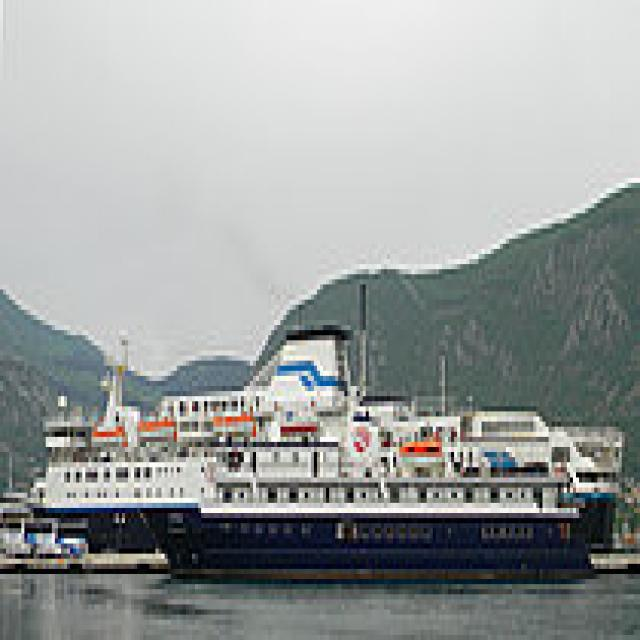Ship: (135, 331, 602, 595)
